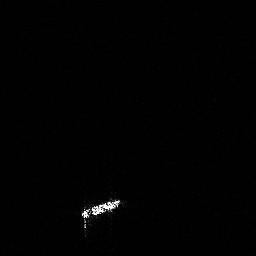ship: (76, 195, 123, 236)
